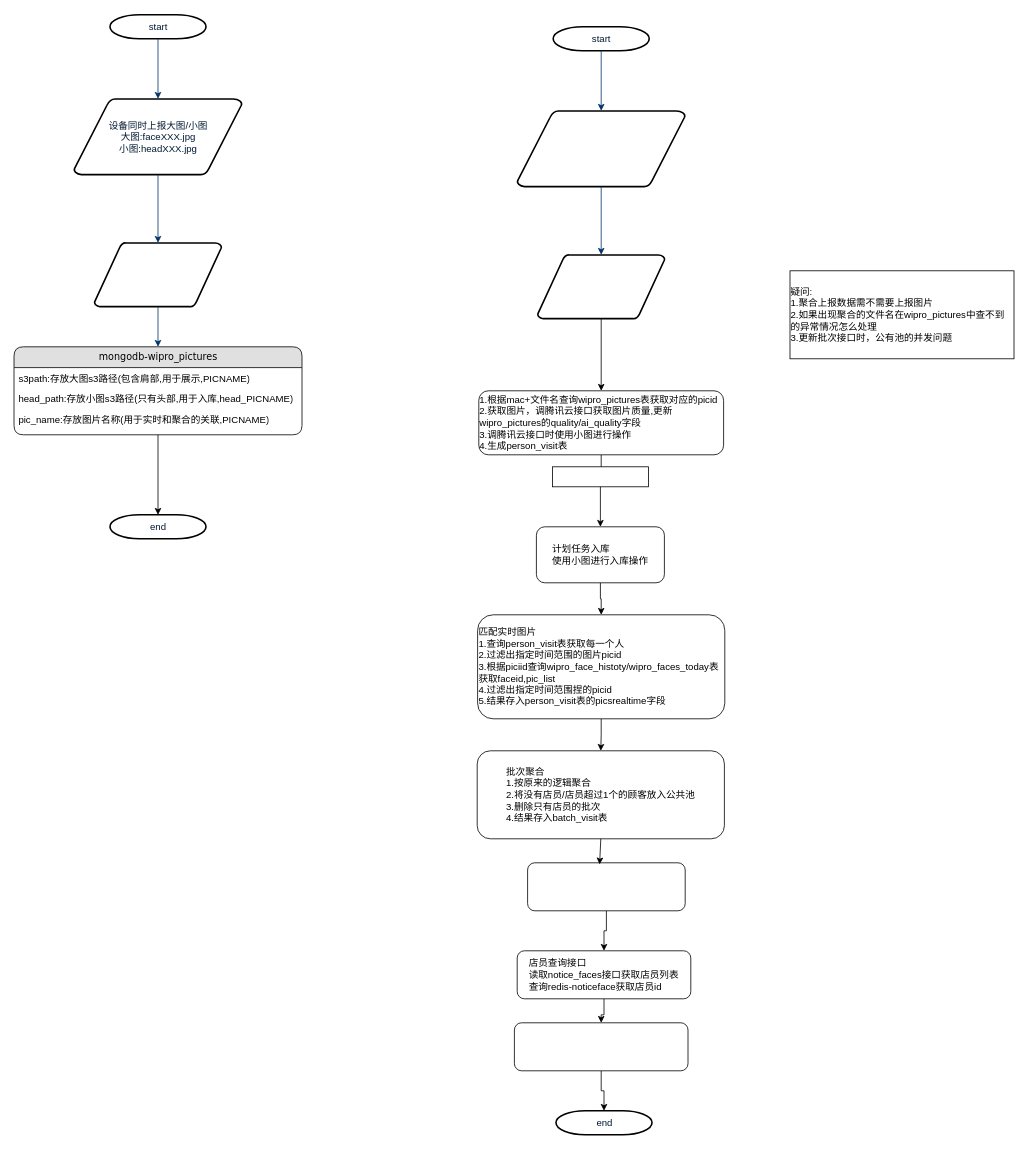
The diagram is 1028 pixels wide and 1149 high, and some of its shapes have lost their labels. The centre of each missing label's shape, as x and y in pixels:
"pyserver headpic/batch接口" goes at [600,286].
"pyserver headpicyongda接口" goes at [157,274].
"手工入库" goes at [600,476].
"批次录入接口 会存在并发的问题，可能使用增加/删除的方式会好一些 修改batch_visit表" goes at [601,1046].
"批次查询接口 读取batch_visit获取批次信息" goes at [606,886].
"设备同时上报大图/小图/文件名 大图:faceXXX.jpg 小图:headXXX.jpg" goes at [601,148].
